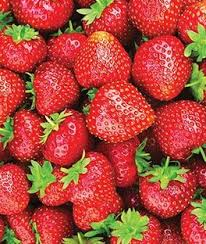Fresa: (84, 78, 159, 145), (130, 31, 196, 103), (73, 29, 135, 94), (136, 161, 199, 220), (151, 97, 206, 161), (28, 58, 87, 117), (93, 131, 150, 191), (42, 107, 96, 166), (80, 1, 140, 50), (72, 183, 127, 235), (70, 150, 120, 201), (1, 22, 49, 73), (4, 105, 46, 163), (124, 1, 187, 37), (108, 208, 166, 244), (48, 27, 95, 70), (31, 204, 80, 244), (1, 160, 32, 217), (35, 162, 74, 205), (1, 64, 27, 128), (176, 1, 206, 53), (179, 194, 206, 244)
